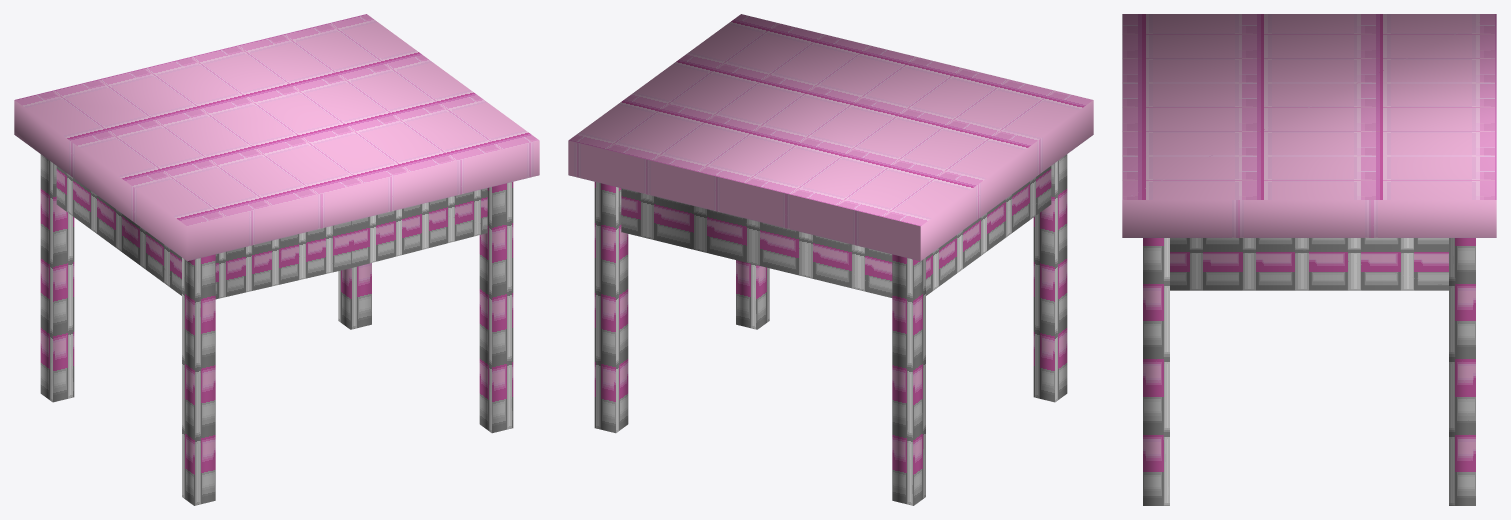
The model's file is 3232IMSD01_18.gltf.
3 views of the same model, side by side, from view 1: azimuth 30°, elevation 25°; view 2: azimuth 150°, elevation 25°; view 3: azimuth 270°, elevation 25° (orthographic). The views are drawn at different scales.
Visible parts, largest first — view 1: 3232IMSD01_18; view 2: 3232IMSD01_18; view 3: 3232IMSD01_18.
Part boxes in pixels (bbox=[...]): 3232IMSD01_18: bbox=[14, 14, 539, 505]; 3232IMSD01_18: bbox=[568, 14, 1093, 505]; 3232IMSD01_18: bbox=[1122, 14, 1496, 505].
Bounding box in the file's own units: 0.9517 × 0.75 × 0.8081.
2 materials, 2 textured.
